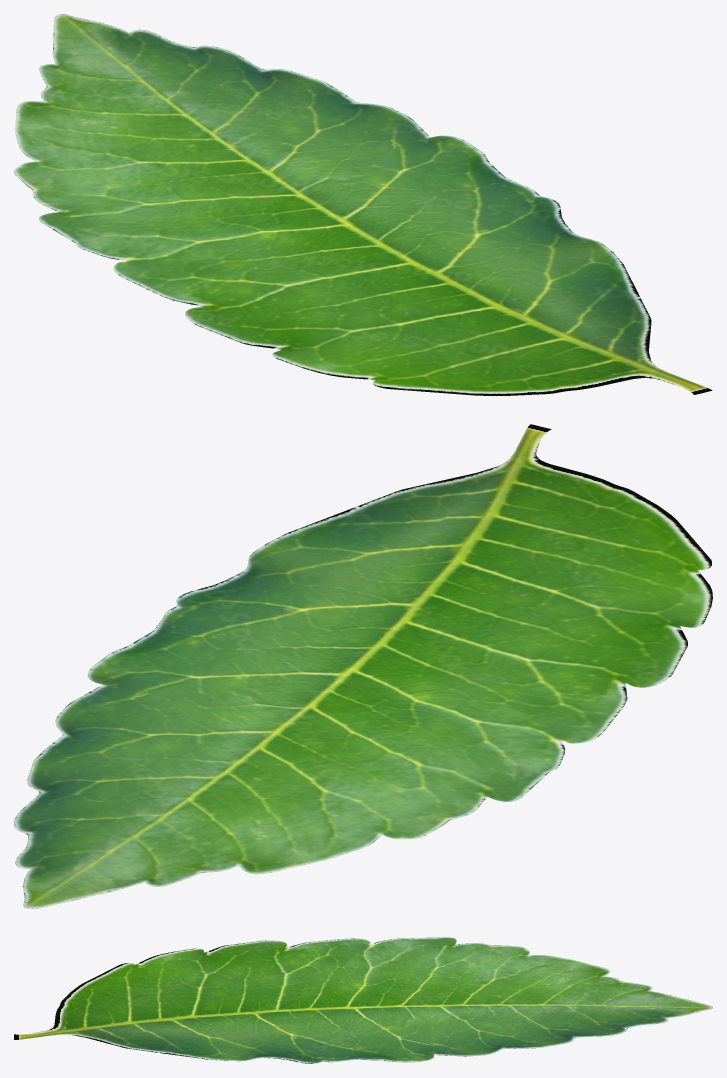
File: neem_leaf_hyperrealistic.glb
3 renders of one model, top to bottom at view 1: azimuth 30°, elevation 25°; view 2: azimuth 150°, elevation 25°; view 3: azimuth 270°, elevation 25°, orthographic. The views are drawn at different scales.
Visible parts, largest first — view 1: Selection; view 2: Selection; view 3: Selection.
Boxes of the visible parts, x1=… form: Selection: x1=14, y1=14, x2=712, y2=395; Selection: x1=14, y1=424, x2=712, y2=908; Selection: x1=14, y1=937, x2=712, y2=1063.
Size of the model in its own units: 4.51 by 0 by 10.51.
1 material, 1 textured.
